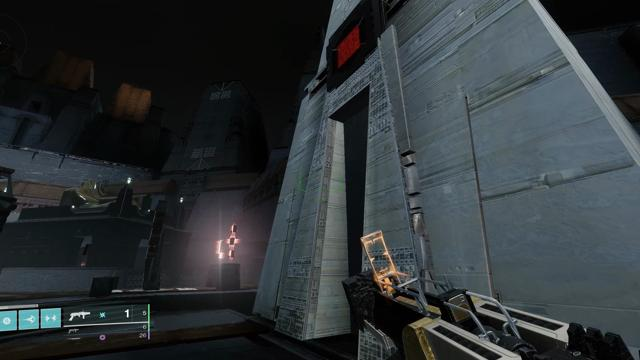stop: (331, 12, 368, 75)
